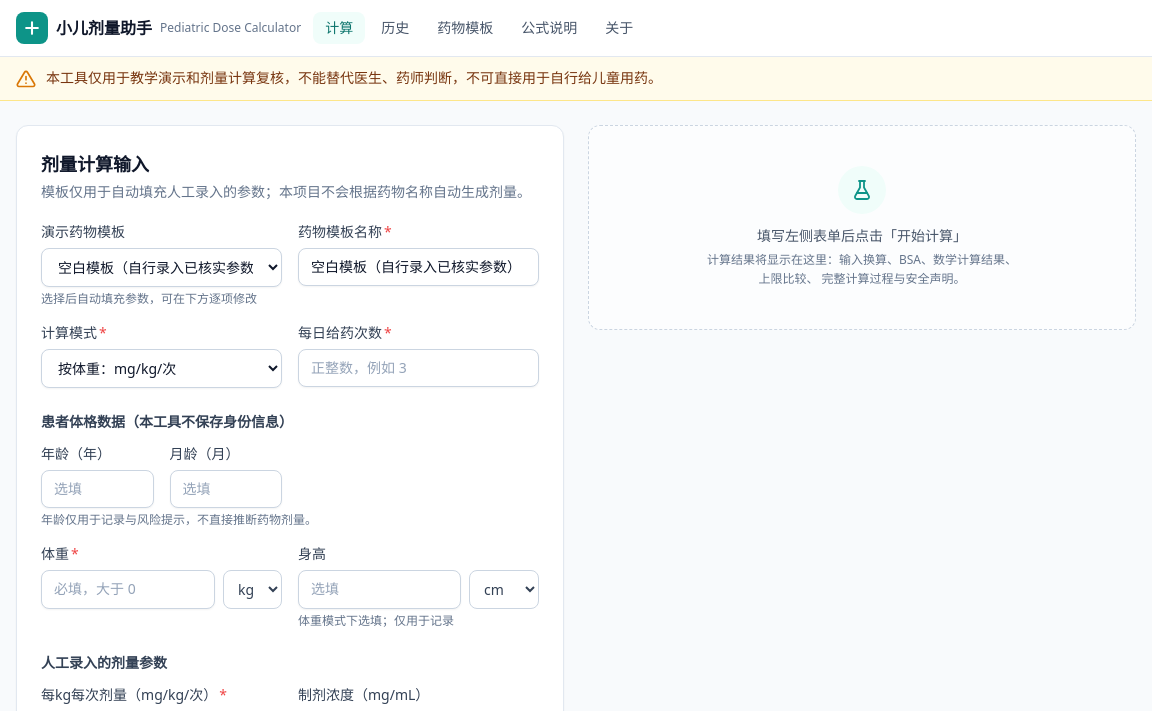
页面与按钮冒烟测试 › 关于项目页：渲染技术架构与免责声明
What coordinates should you click on to do the following:
click the link "关于"
I would click on:
 (619, 28)
Its box is [605,18,633,37].
(page scrolled)
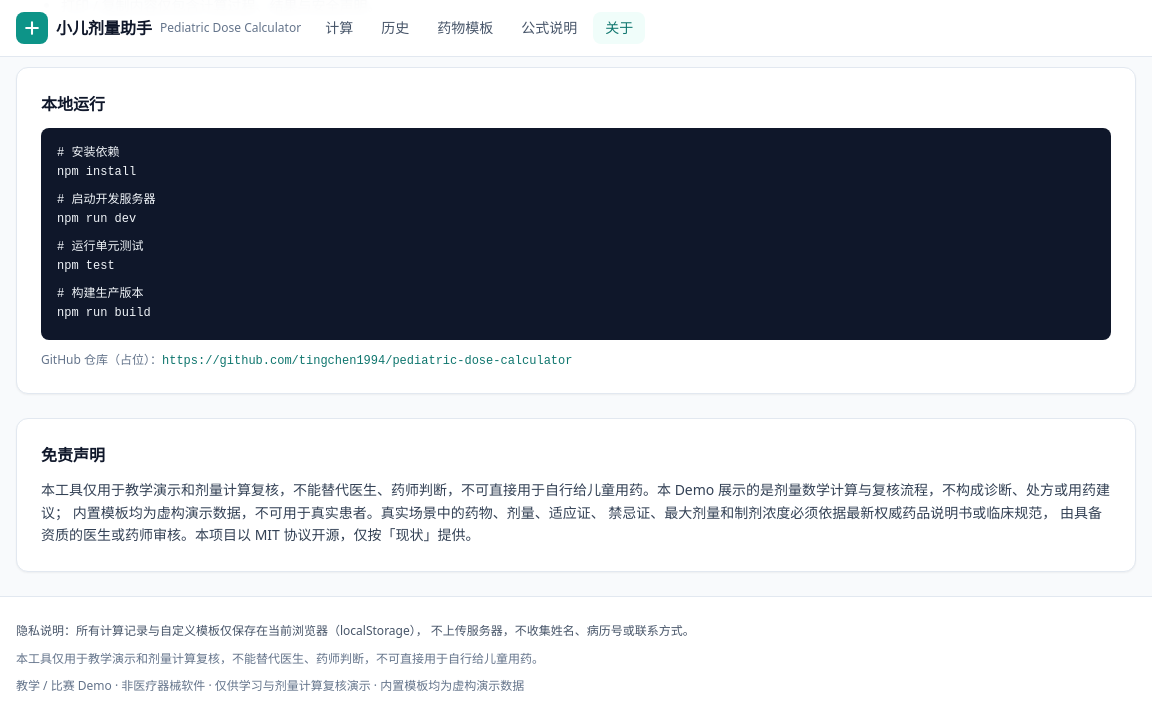
Result: the text "MIT 协议开源" is shown at [41,480,1110,544]
